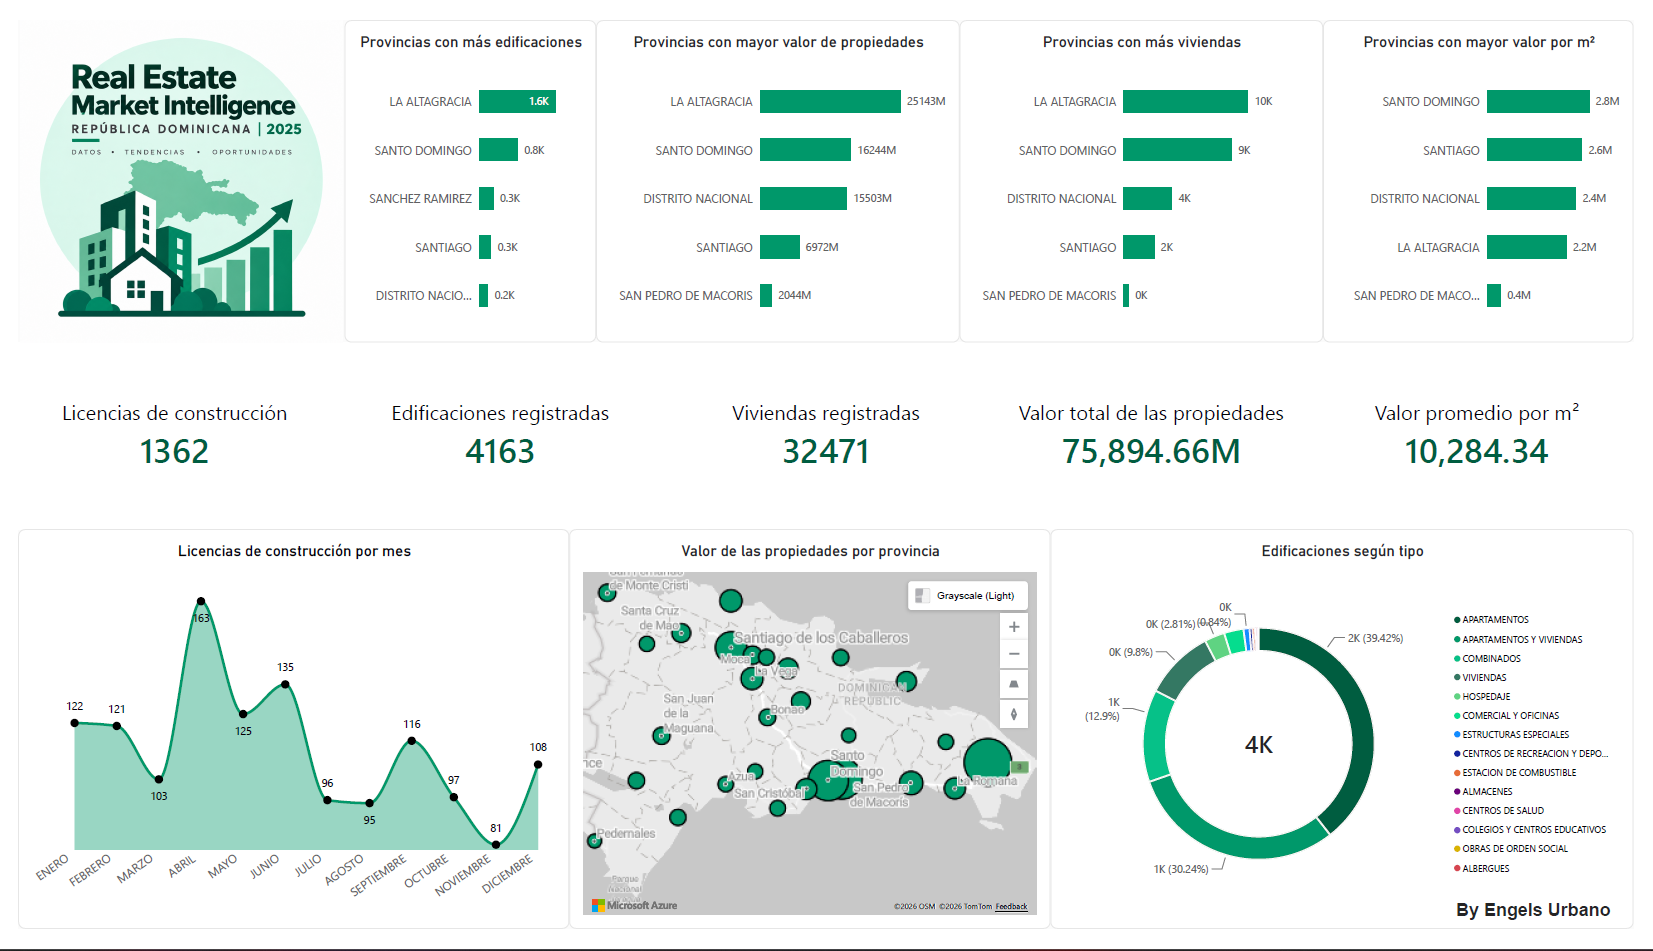

The page's visual inventory and layout, read from the dashboard file:
{"tool":"powerbi","page":{"name":"Real Estate Market Intelligence","canvas":[1920,1080],"ordinal":0},"visuals":[{"type":"cardVisual","fields":{"Data":["fact_licencias_construccion.Total Licencias","fact_licencias_construccion.Total Edificaciones","fact_licencias_construccion.Total unidades habitacionales","fact_licencias_construccion.Total Valor Tasado","fact_licencias_construccion.Valor promedio por m²"]},"box":[0,383.3,1920,221.7],"z":0},{"type":"clusteredBarChart","title":"Provincias con más edificaciones","fields":{"Category":["fact_licencias_construccion.PROVINCIA"],"Y":["fact_licencias_construccion.Total de edificaciones"]},"box":[388.3,0,299.2,383.3],"z":1000,"group":"g1"},{"type":"donutChart","title":"Edificaciones según tipo","fields":{"Category":["fact_licencias_construccion.TIPOLOGIA"],"Y":["fact_licencias_construccion.Total de edificaciones"]},"box":[1226.7,605,693.3,475],"z":1000},{"type":"areaChart","title":"Licencias de construcción por mes","fields":{"Category":["fact_licencias_construccion.MES"],"Y":["fact_licencias_construccion.Total de licencias"]},"box":[0,605,655,475],"z":2000},{"type":"group","id":"g1","title":"Group 1","box":[388.3,0,1531.7,383.3],"z":3000},{"type":"clusteredBarChart","title":"Provincias con mayor valor de propiedades","fields":{"Category":["fact_licencias_construccion.PROVINCIA"],"Y":["fact_licencias_construccion.Total valor tasado"]},"box":[687.5,0,432.1,383.3],"z":3000,"group":"g1"},{"type":"clusteredBarChart","title":"Provincias con más viviendas","fields":{"Category":["fact_licencias_construccion.PROVINCIA"],"Y":["fact_licencias_construccion.Total uds habitacionales"]},"box":[1119.6,0,432.1,383.3],"z":4000,"group":"g1"},{"type":"azureMap","title":"Valor de las propiedades por provincia","fields":{"Category":["fact_licencias_construccion.PROVINCIA"],"Size":["fact_licencias_construccion.Total valor tasado"]},"box":[655,605,571.7,475],"z":4000},{"type":"image","box":[0,0,388.3,383.3],"z":5000},{"type":"clusteredBarChart","title":"Provincias con mayor valor por m²","fields":{"Category":["fact_licencias_construccion.PROVINCIA"],"Y":["fact_licencias_construccion.Total valor tasado por m²"]},"box":[1551.7,0,368.3,383.3],"z":5000,"group":"g1"},{"type":"textbox","box":[1708.9,1046.3,190,33.3],"z":7000}]}

Visuals, with their boxes in screenshot pixels (x1, y1, x2, y2), scaled from the page's 1920x1080 canvas onto the 1653x951 screenshot:
cardVisual - fact_licencias_construccion.Total Licencias x fact_licencias_construccion.Total Edificaciones: l=0, t=338, r=1652, b=533
"Provincias con más edificaciones" clusteredBarChart: l=334, t=0, r=592, b=338
"Edificaciones según tipo" donutChart: l=1056, t=533, r=1652, b=950
"Licencias de construcción por mes" areaChart: l=0, t=533, r=564, b=950
"Group 1" group: l=334, t=0, r=1652, b=338
"Provincias con mayor valor de propiedades" clusteredBarChart: l=592, t=0, r=964, b=338
"Provincias con más viviendas" clusteredBarChart: l=964, t=0, r=1336, b=338
"Valor de las propiedades por provincia" azureMap: l=564, t=533, r=1056, b=950
image: l=0, t=0, r=334, b=338
"Provincias con mayor valor por m²" clusteredBarChart: l=1336, t=0, r=1652, b=338
textbox: l=1471, t=921, r=1635, b=950
